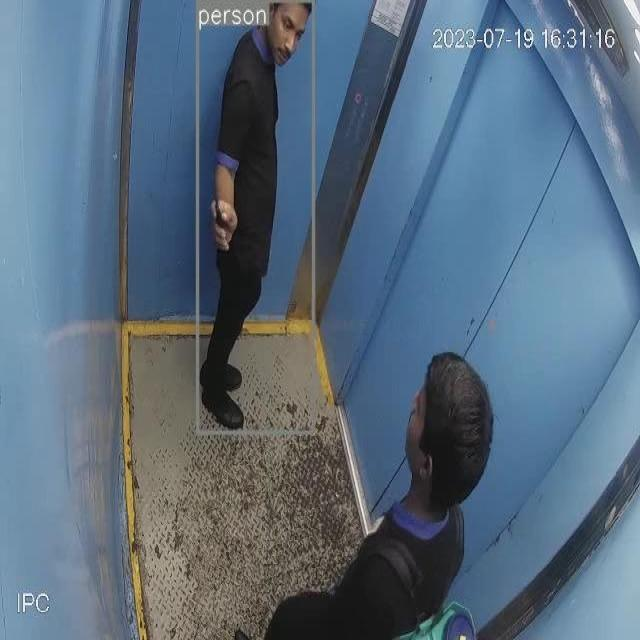person: (261, 346, 497, 640), (198, 0, 312, 433)
